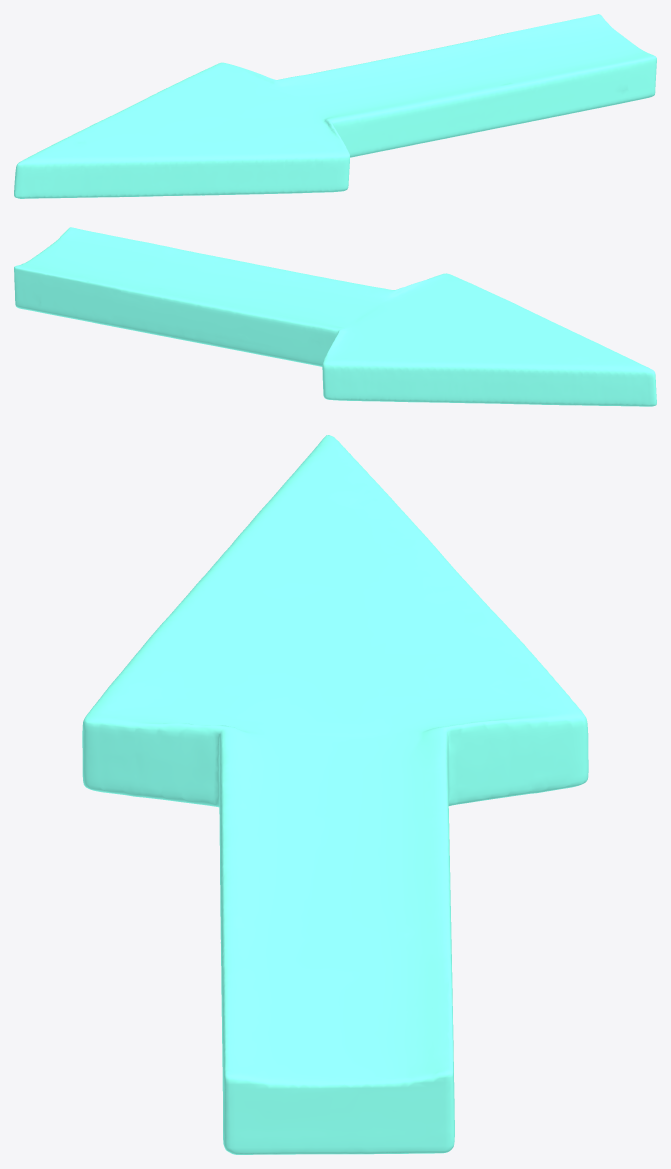
File: modelblue.glb
The picture shows the model from 3 angles, top to bottom: view 1: azimuth 30°, elevation 25°; view 2: azimuth 150°, elevation 25°; view 3: azimuth 270°, elevation 25°; orthographic projection. The views are drawn at different scales.
Visible parts, largest first — view 1: Mesh_0.004; view 2: Mesh_0.004; view 3: Mesh_0.004.
Part boxes in pixels (x1,y1,x2,y2): Mesh_0.004: (14,14,656,198); Mesh_0.004: (14,227,656,406); Mesh_0.004: (82,435,588,1154).
Bounding box in the file's own units: 2 × 0.2065 × 0.7156.
